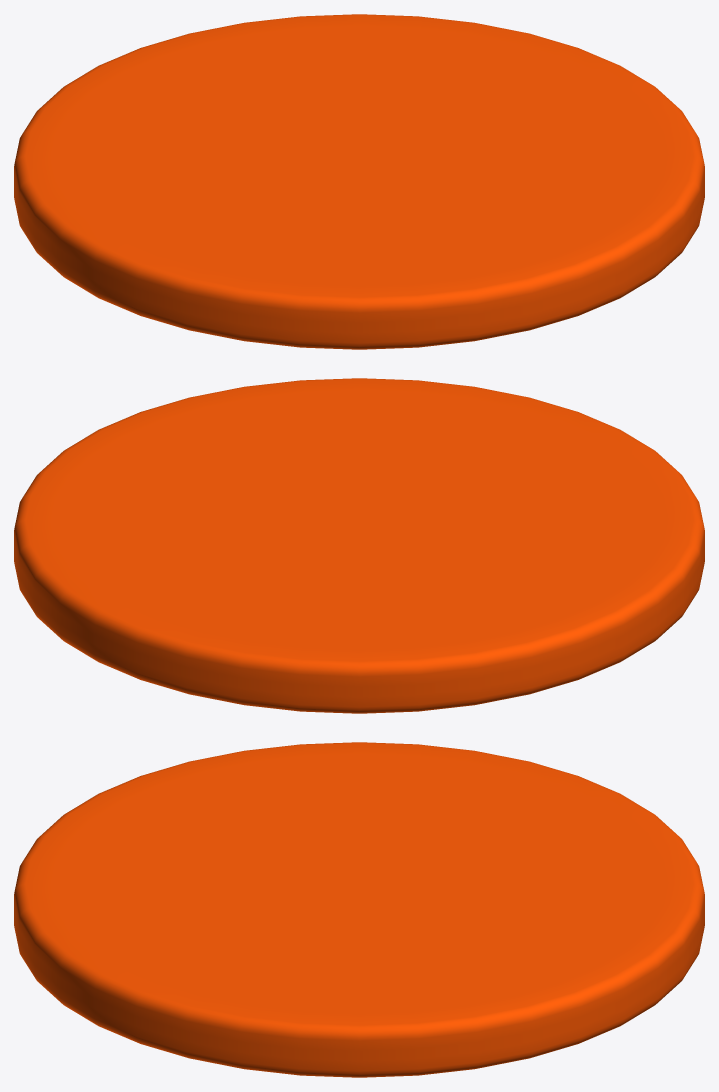
Rendered from Tomate.glb.
3 views of the same model, one above another, from view 1: azimuth 30°, elevation 25°; view 2: azimuth 150°, elevation 25°; view 3: azimuth 270°, elevation 25° (orthographic).
Parts seen in each view (by area): view 1: tomato; view 2: tomato; view 3: tomato.
Part boxes in pixels (x1,y1,x2,y2): tomato: (14, 14, 704, 349); tomato: (14, 378, 704, 713); tomato: (14, 742, 704, 1077).
Bounding box in the file's own units: 117 × 9.6 × 117.
